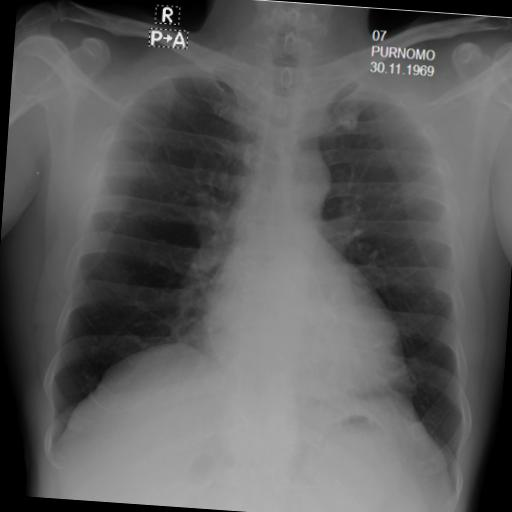kardiomegali: (40, 18, 500, 504)
